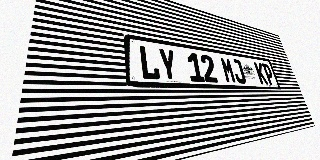1: (186, 52, 205, 82)
2: (199, 54, 218, 83)
J: (230, 59, 247, 84)
K: (254, 62, 268, 84)
L: (138, 45, 161, 80)
M: (220, 57, 237, 83)
P: (261, 63, 276, 85)
Y: (157, 48, 179, 81)
